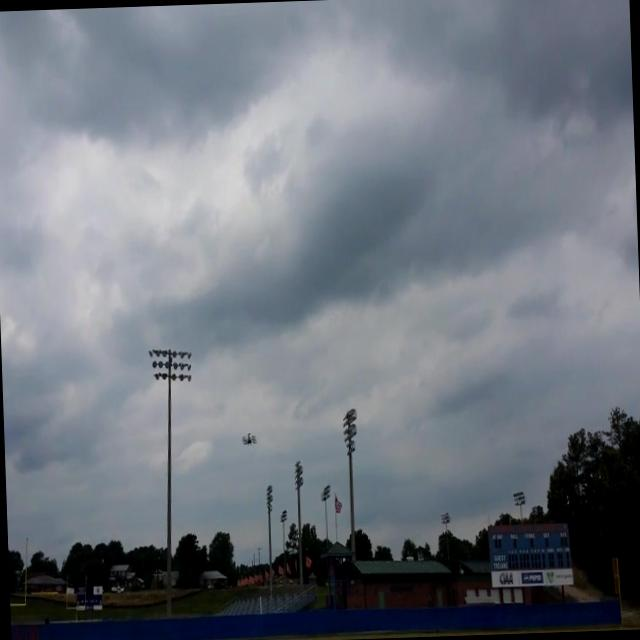drone: (241, 431, 256, 446)
